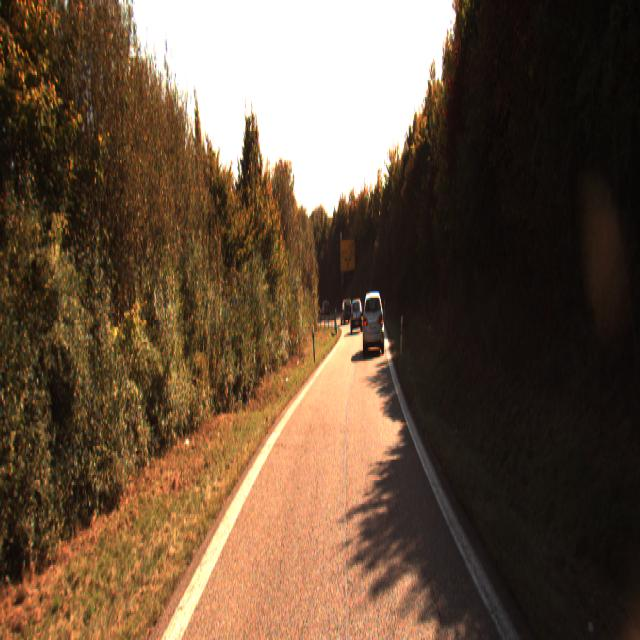Car: (362, 288, 384, 353), (350, 300, 362, 334), (340, 302, 352, 326)
DontCare: (319, 297, 329, 318)
